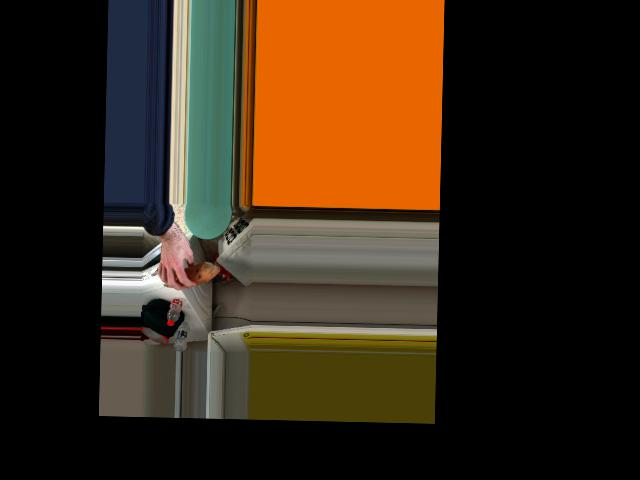sweet_potato: (160, 262, 218, 289)
